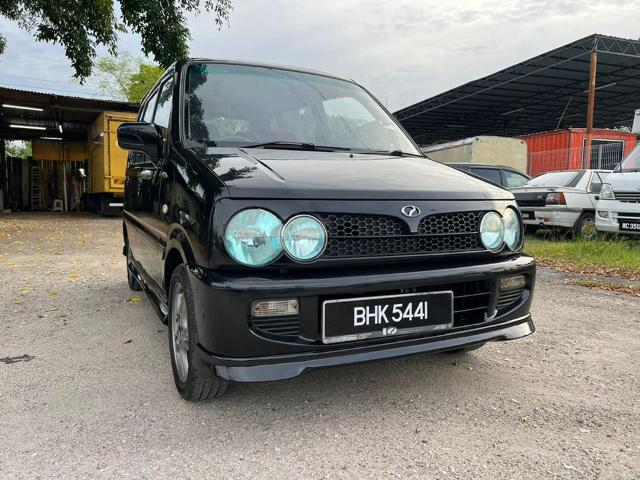License_Plate: (329, 296, 457, 331)
car: (121, 57, 543, 403)
